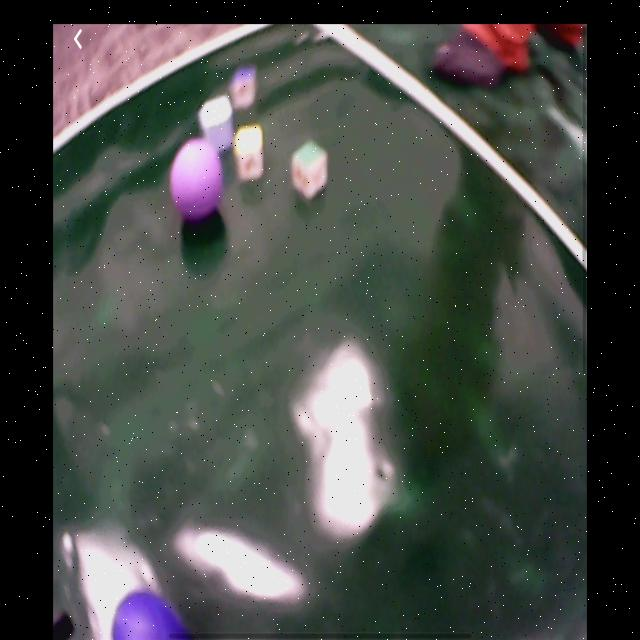ball: (171, 140, 222, 221), (110, 592, 182, 640)
